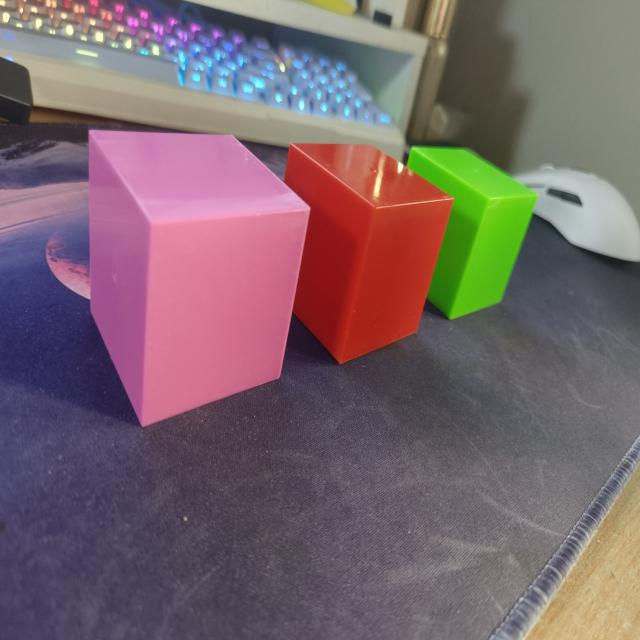green: (405, 144, 546, 325)
pink: (84, 124, 316, 443)
red: (281, 138, 458, 372)
